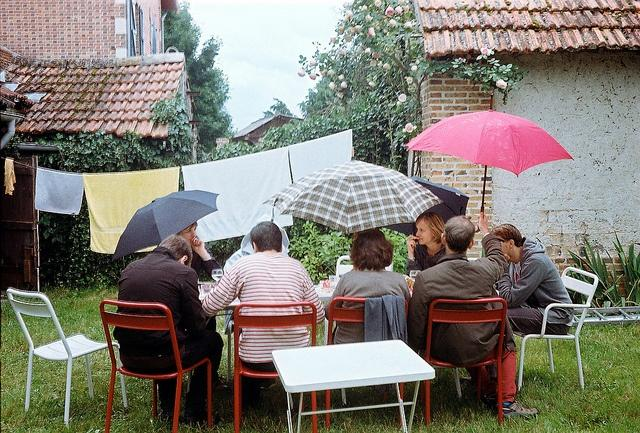Kursi: (5, 287, 128, 427), (98, 299, 212, 432), (422, 296, 508, 426), (516, 265, 600, 392)
